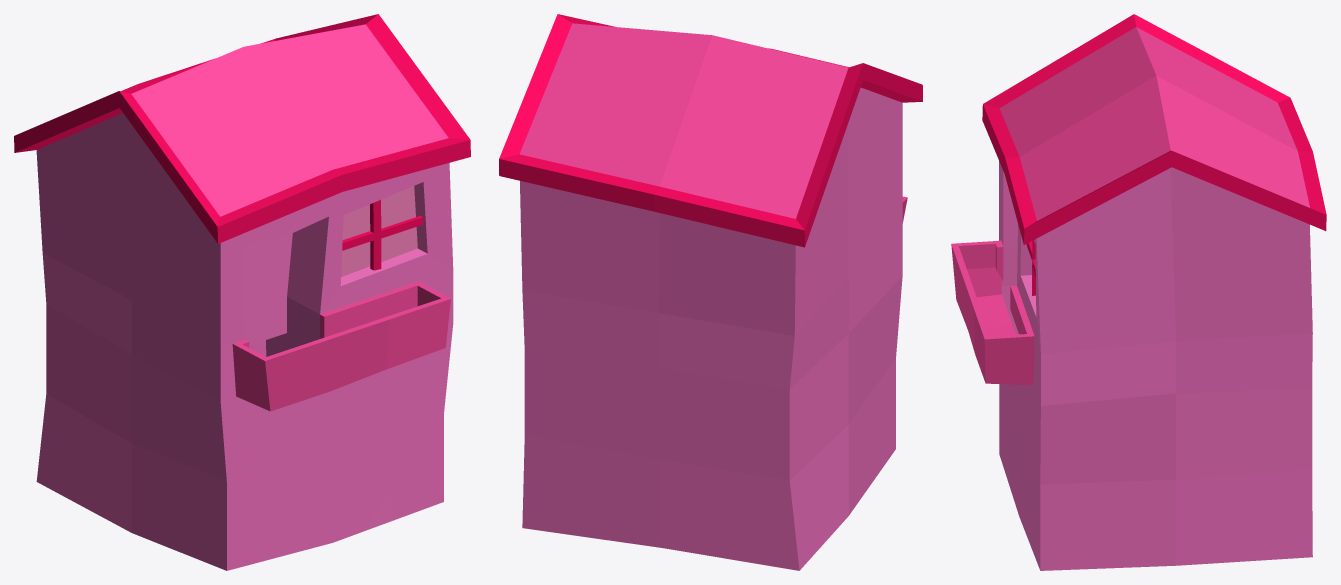
The model's file is Level_8.fbx.
The picture shows the model from 3 angles, left to right: view 1: azimuth 30°, elevation 25°; view 2: azimuth 150°, elevation 25°; view 3: azimuth 270°, elevation 25°; orthographic projection. The views are drawn at different scales.
Visible parts, largest first — view 1: Cube.017; view 2: Cube.017; view 3: Cube.017.
Part boxes in pixels (x1=…): Cube.017: x1=14, y1=14, x2=470, y2=570; Cube.017: x1=499, y1=14, x2=922, y2=570; Cube.017: x1=951, y1=14, x2=1326, y2=570.
Size of the model in its own units: 3747 by 5039 by 3965.
